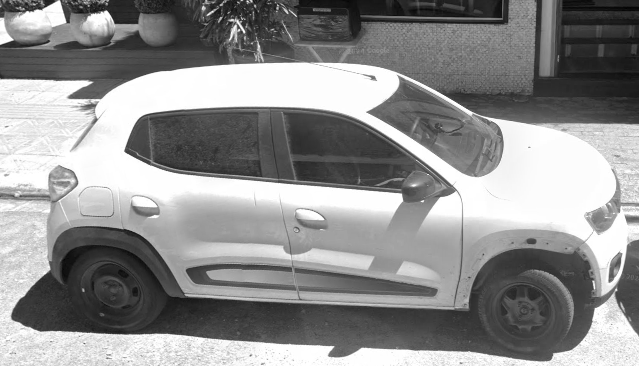car: (45, 61, 629, 357)
